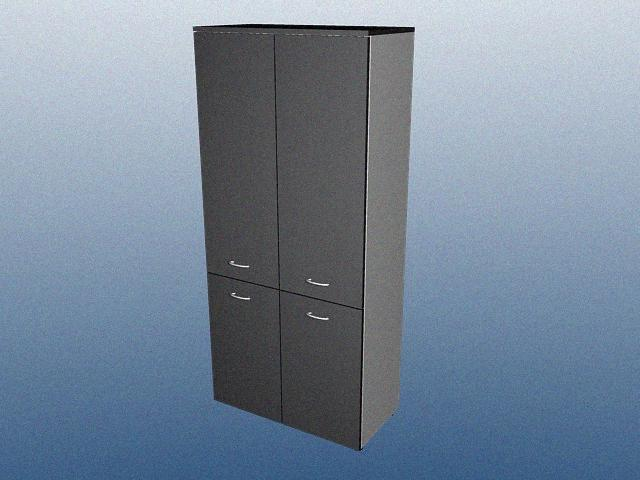cabinet_door: (277, 36, 365, 299), (200, 34, 276, 280), (280, 299, 360, 437), (211, 280, 281, 412)
handle: (302, 308, 333, 325), (302, 276, 332, 290), (227, 288, 250, 305), (225, 258, 252, 270)
